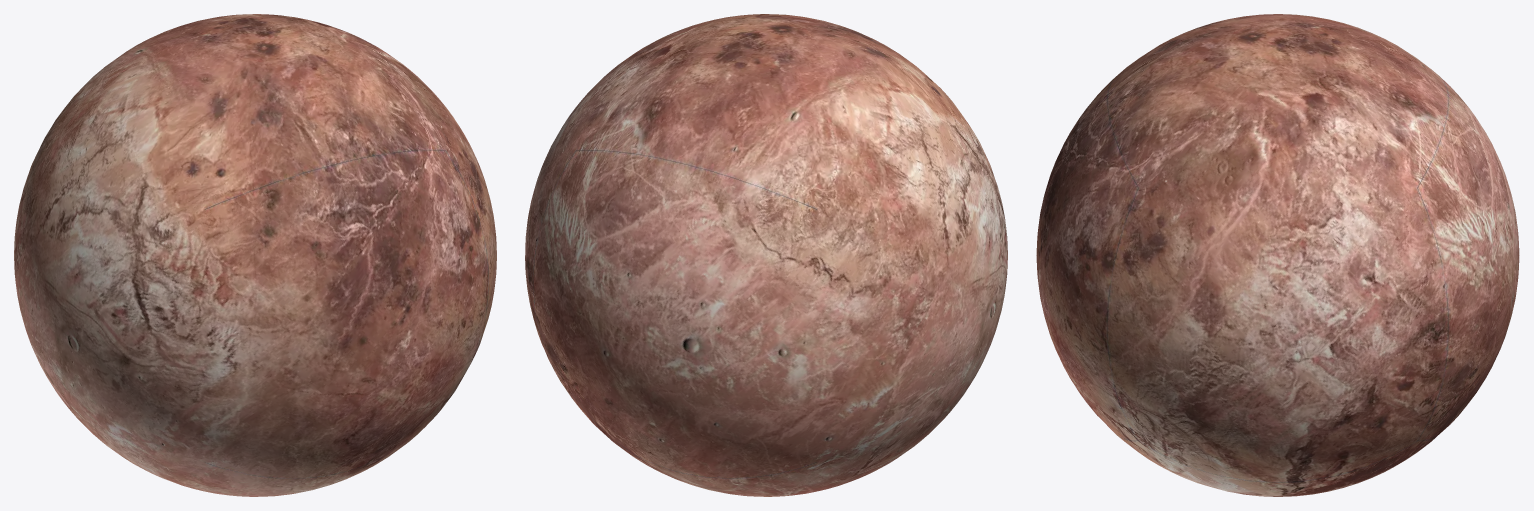
File: planet6.glb
3 renders of one model, left to right at view 1: azimuth 30°, elevation 25°; view 2: azimuth 150°, elevation 25°; view 3: azimuth 270°, elevation 25°, orthographic.
Visible parts, largest first — view 1: Phoenix_LOD0__0; view 2: Phoenix_LOD0__0; view 3: Phoenix_LOD0__0.
Part boxes in pixels (x1,y1,x2,y2): Phoenix_LOD0__0: (14, 14, 496, 496); Phoenix_LOD0__0: (525, 14, 1007, 496); Phoenix_LOD0__0: (1036, 14, 1519, 496).
Bounding box in the file's own units: 3.41 × 3.41 × 3.41.
Materials: 1 (1 with a texture image).
